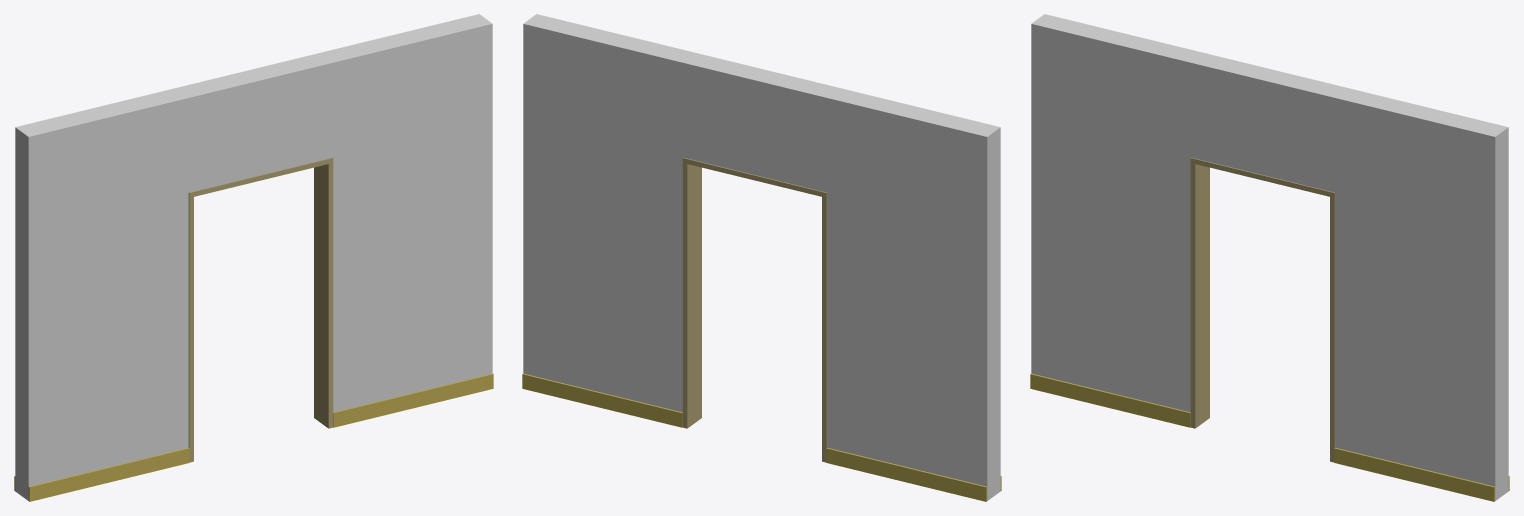
File: MOD_09_Wall_Doorway.glb
3 renders of one model, left to right at view 1: azimuth 30°, elevation 25°; view 2: azimuth 150°, elevation 25°; view 3: azimuth 330°, elevation 25°, orthographic.
Visible parts, largest first — view 1: MOD_09_Wall_Doorway; view 2: MOD_09_Wall_Doorway; view 3: MOD_09_Wall_Doorway.
Boxes of the visible parts, bbox=[...] form: MOD_09_Wall_Doorway: bbox=[14, 14, 493, 501]; MOD_09_Wall_Doorway: bbox=[522, 14, 1001, 501]; MOD_09_Wall_Doorway: bbox=[1030, 14, 1509, 501].
Size of the model in its own units: 4 by 3 by 0.23.
